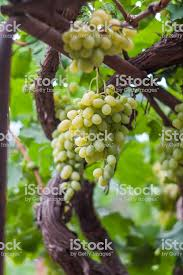grapes: (49, 88, 139, 207), (61, 9, 133, 71)
